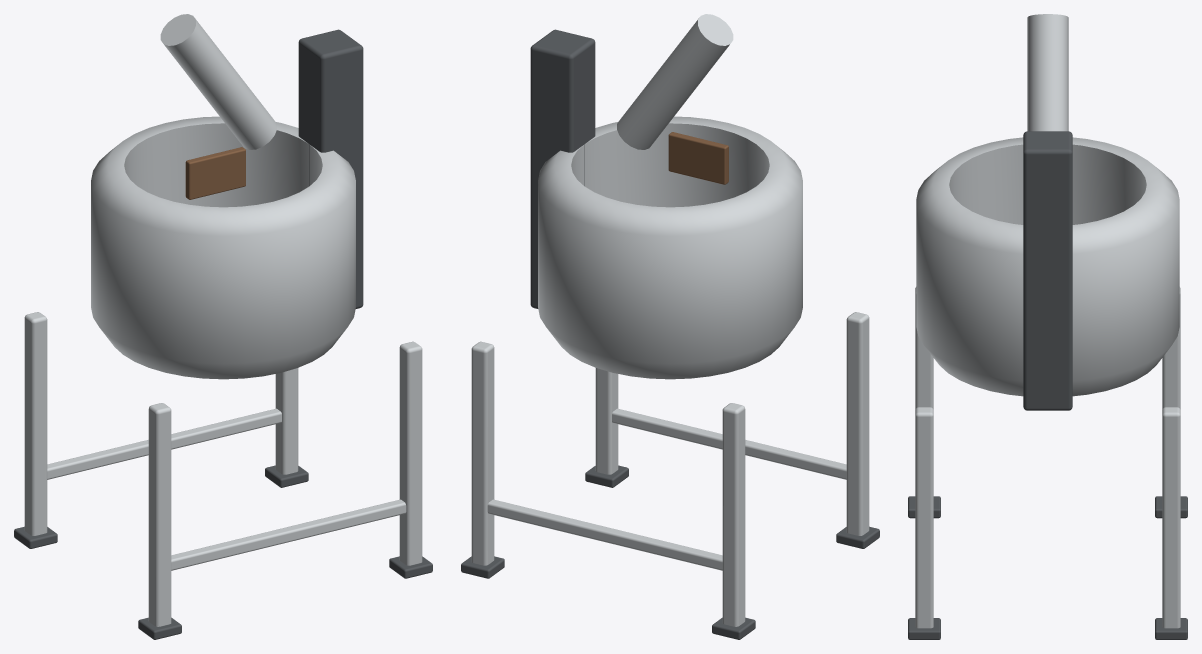
Rendered from chocolate-making-and-confectionery-heated-ganache-mixe-5c6aba7a__39172.glb.
3 views of the same model, side by side, from view 1: azimuth 30°, elevation 25°; view 2: azimuth 150°, elevation 25°; view 3: azimuth 270°, elevation 25° (orthographic).
Parts seen in each view (by area): view 1: heated-ganache-mixer; view 2: heated-ganache-mixer; view 3: heated-ganache-mixer.
Part boxes in pixels (bbox=[...]): heated-ganache-mixer: bbox=[14, 14, 432, 639]; heated-ganache-mixer: bbox=[461, 14, 879, 639]; heated-ganache-mixer: bbox=[908, 14, 1187, 639].
Bounding box in the file's own units: 0.78 × 1.46 × 0.6799.
